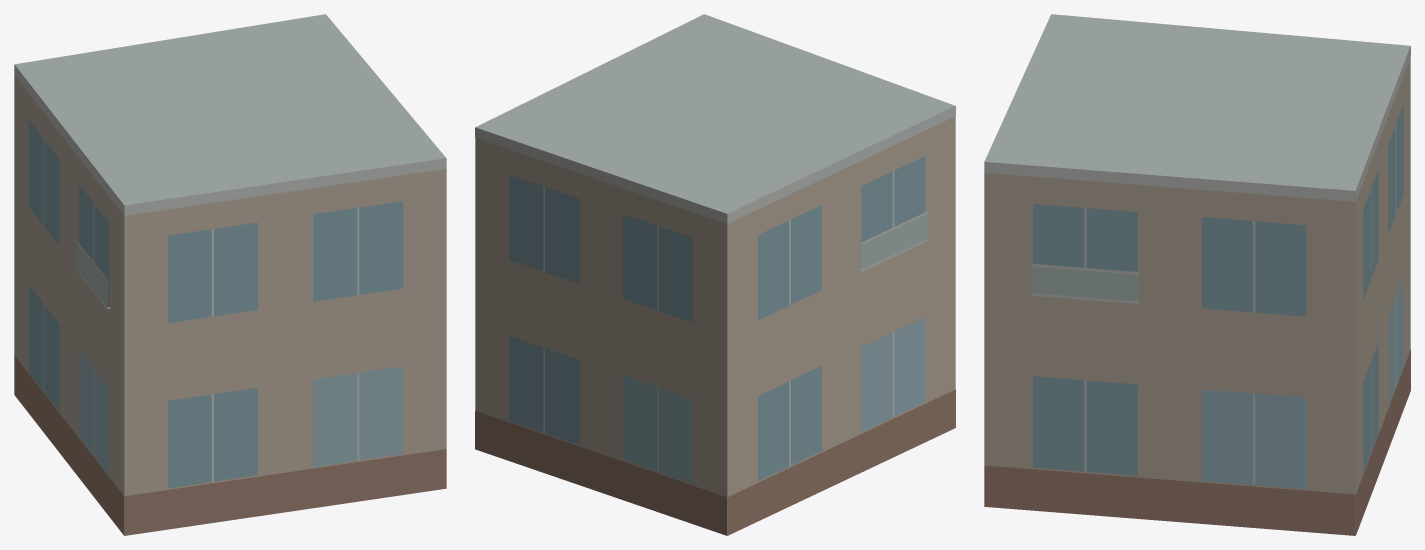
File: survey-upis-32947231.glb
3 renders of one model, left to right at view 1: azimuth 30°, elevation 25°; view 2: azimuth 150°, elevation 25°; view 3: azimuth 270°, elevation 25°, orthographic. The views are drawn at different scales.
Visible parts, largest first — view 1: survey-upis-32947231.tmp; view 2: survey-upis-32947231.tmp; view 3: survey-upis-32947231.tmp.
Boxes of the visible parts, <box> form: survey-upis-32947231.tmp: <box>14,14,446,535</box>; survey-upis-32947231.tmp: <box>475,14,955,535</box>; survey-upis-32947231.tmp: <box>984,14,1410,535</box>.
Size of the model in its own units: 8.48 by 7.7 by 8.64.
